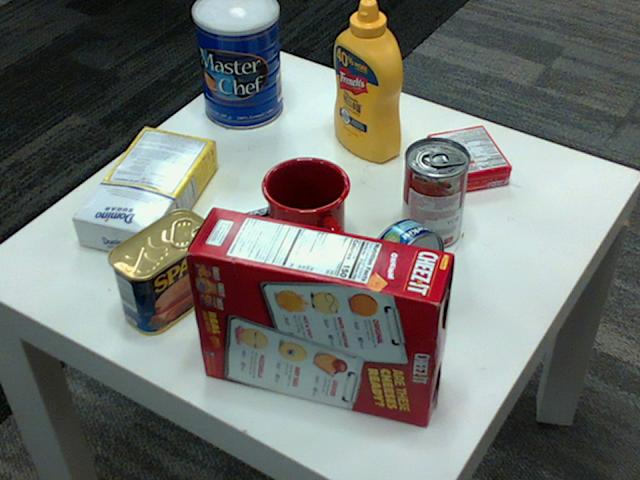cracker_box: (184, 206, 451, 424)
gelatin_box: (427, 125, 513, 192)
large_marker: (197, 199, 303, 244)
master_chef_can: (190, 0, 281, 128)
mug: (261, 153, 351, 261)
mustard_bottle: (334, 0, 401, 162)
potted_meat_can: (108, 208, 214, 334)
sugar_box: (73, 124, 217, 257)
tomato_soup_can: (400, 137, 469, 249)
tuna_fish_can: (362, 218, 444, 306)
